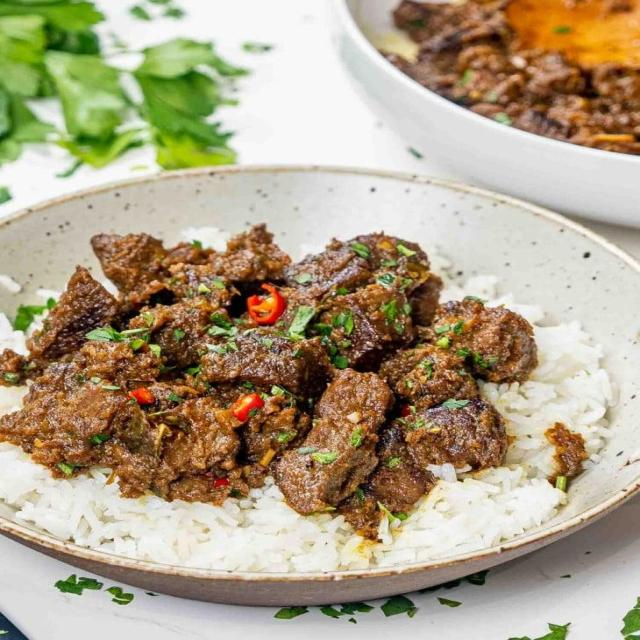Rendang: (5, 207, 578, 518)
